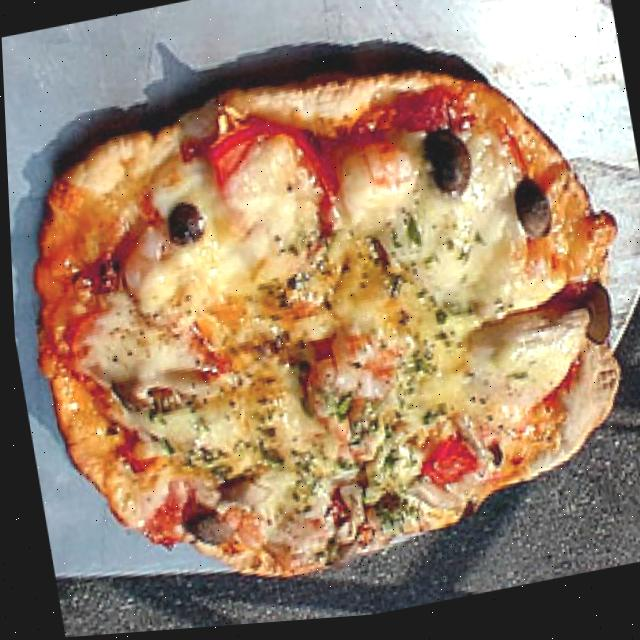汉堡快餐: (1, 0, 640, 640)
